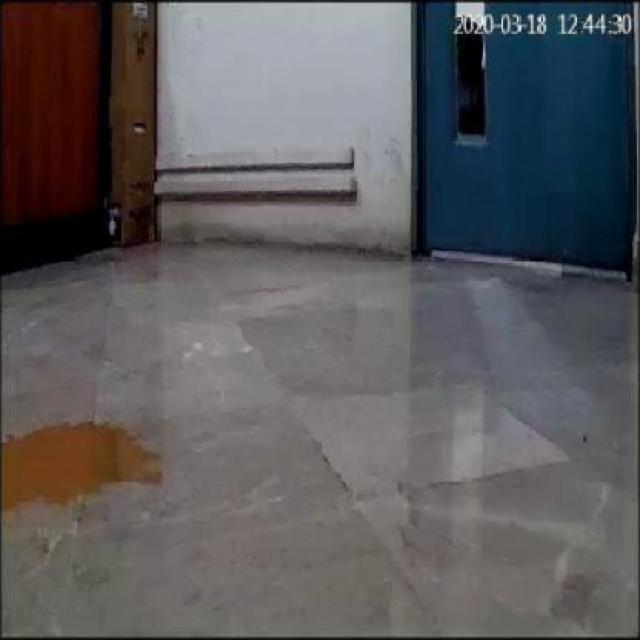spillage: (3, 424, 161, 511)
